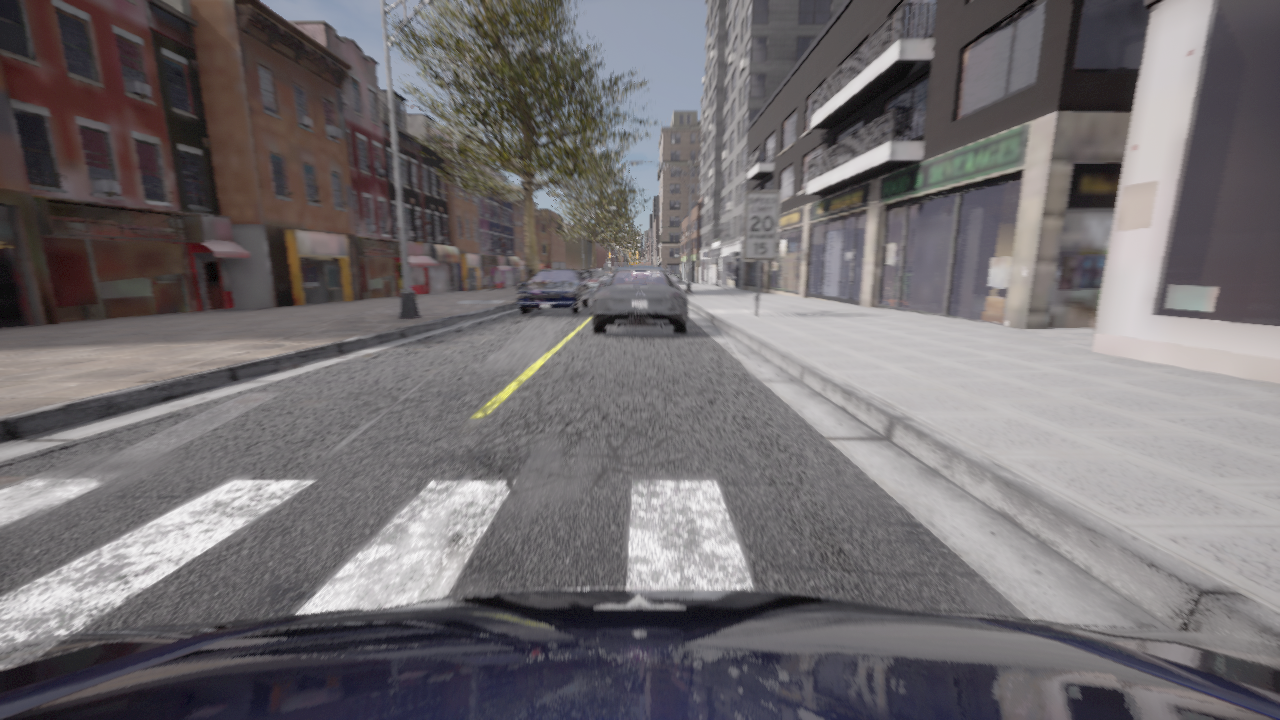cyclist: (0, 588, 1279, 719), (591, 267, 687, 333), (515, 269, 590, 313), (580, 268, 608, 293), (605, 272, 611, 276)
